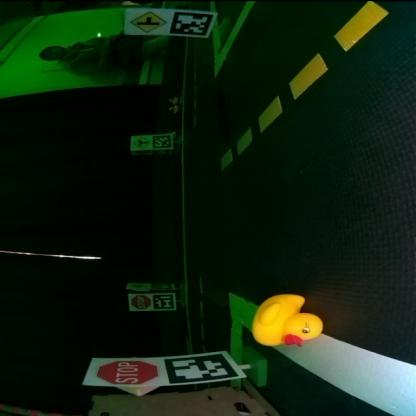Duckie: (252, 294, 321, 346), (168, 107, 175, 112), (167, 98, 175, 102)
Intersection sign: (128, 10, 164, 34), (131, 136, 149, 147)
QR code: (162, 357, 240, 383), (172, 12, 212, 36), (156, 294, 172, 310), (155, 134, 171, 147), (152, 284, 174, 289)
Stop sign: (92, 358, 160, 384), (130, 294, 150, 310)
